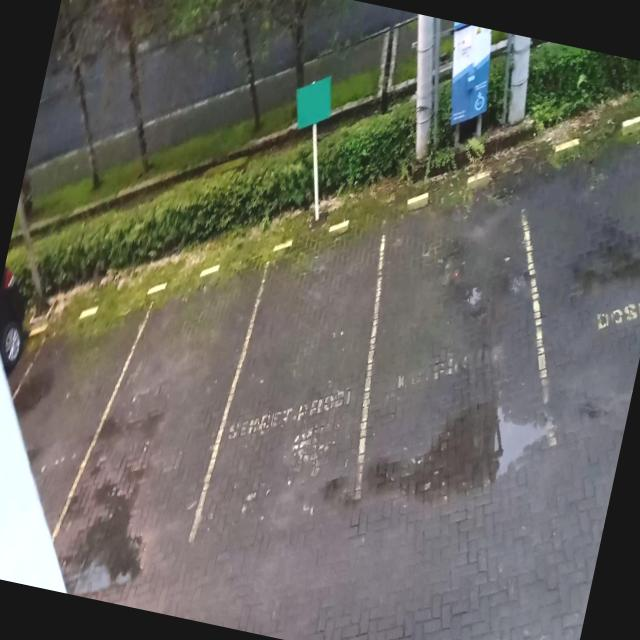free: (328, 177, 596, 533), (190, 213, 410, 582), (64, 242, 258, 580), (473, 102, 640, 481)
